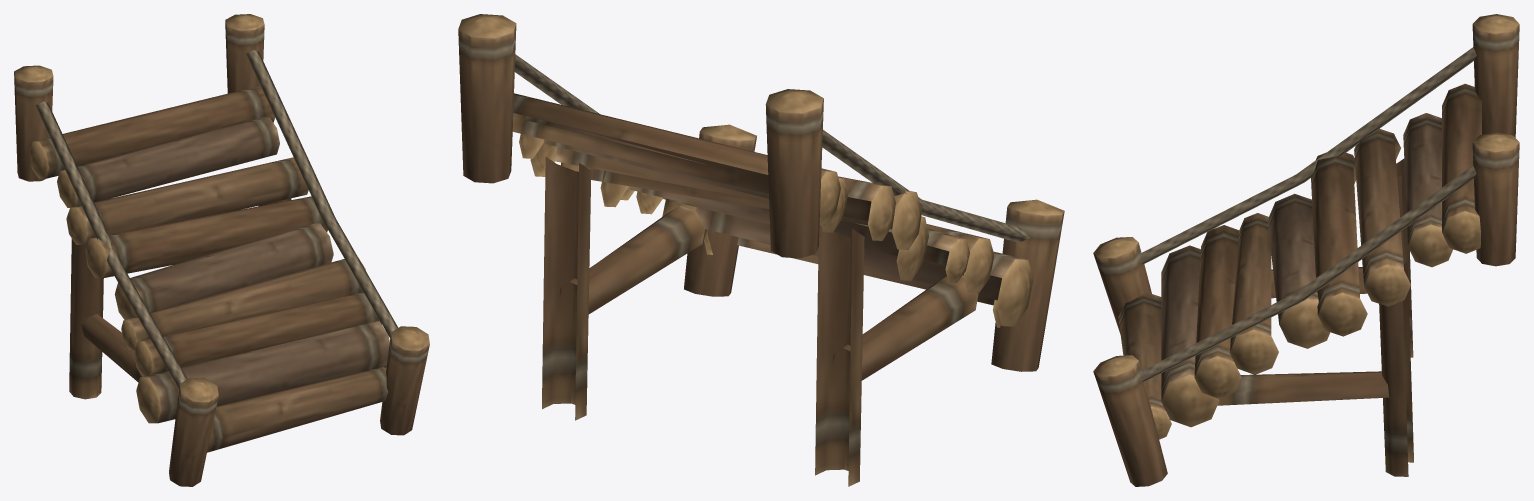
File: stairs_4.FBX
The picture shows the model from 3 angles, left to right: view 1: azimuth 30°, elevation 25°; view 2: azimuth 150°, elevation 25°; view 3: azimuth 270°, elevation 25°; orthographic projection. The views are drawn at different scales.
Parts seen in each view (by area): view 1: polySurface1592; view 2: polySurface1592; view 3: polySurface1592.
Boxes of the visible parts, x1,y1,x2,y2 form: polySurface1592: (14,14,429,486); polySurface1592: (458,14,1064,486); polySurface1592: (1093,14,1519,486).
Size of the model in its own units: 56.63 by 64.64 by 72.01.
